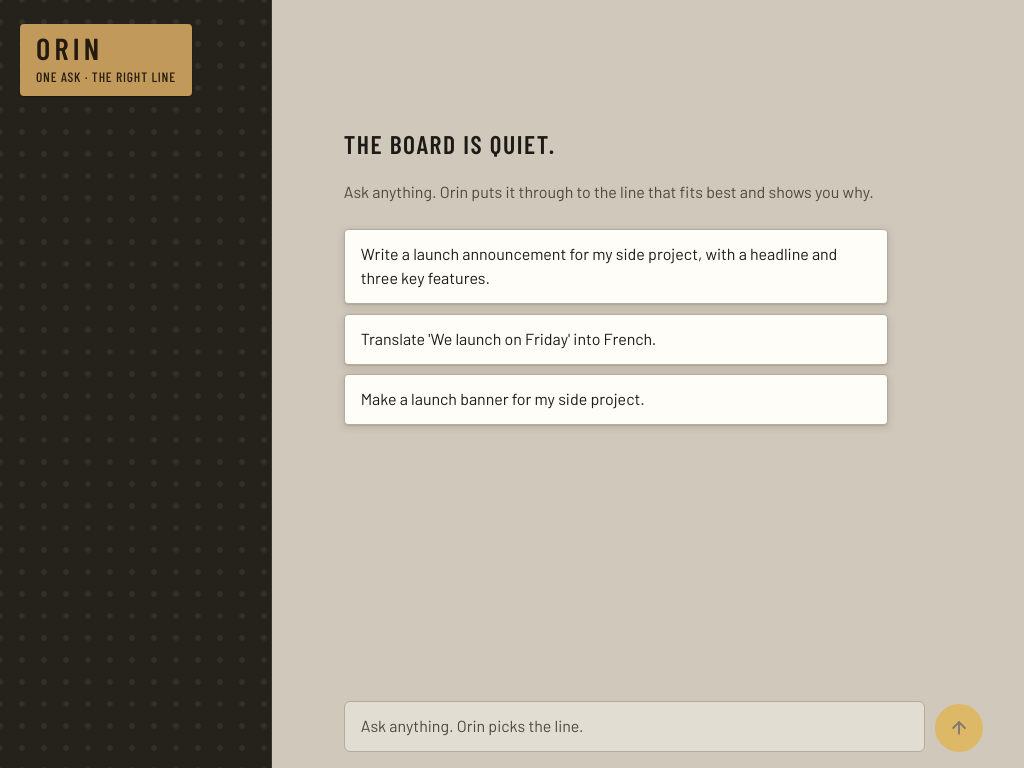
Test case: owner session › shuts the board when the token goes away mid-session
Expected: the text "The board is quiet." is shown, left=344, top=128, right=556, bottom=159
Type "hello" into the text box named "Ask Orin".
click(635, 727); type("hello")  # box left=344, top=701, right=926, bottom=752
Then press Enter
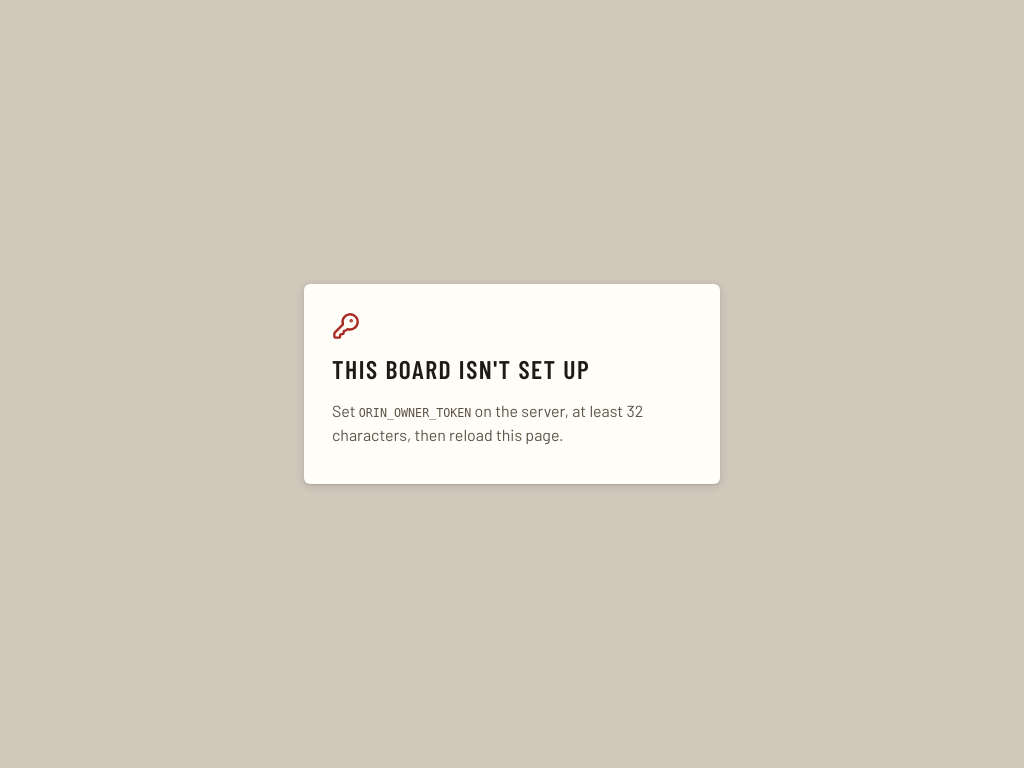
Expected: the field labelled "Ask Orin" is not shown
Now the heading "This board isn't set up" is shown, box left=332, top=353, right=590, bottom=384
